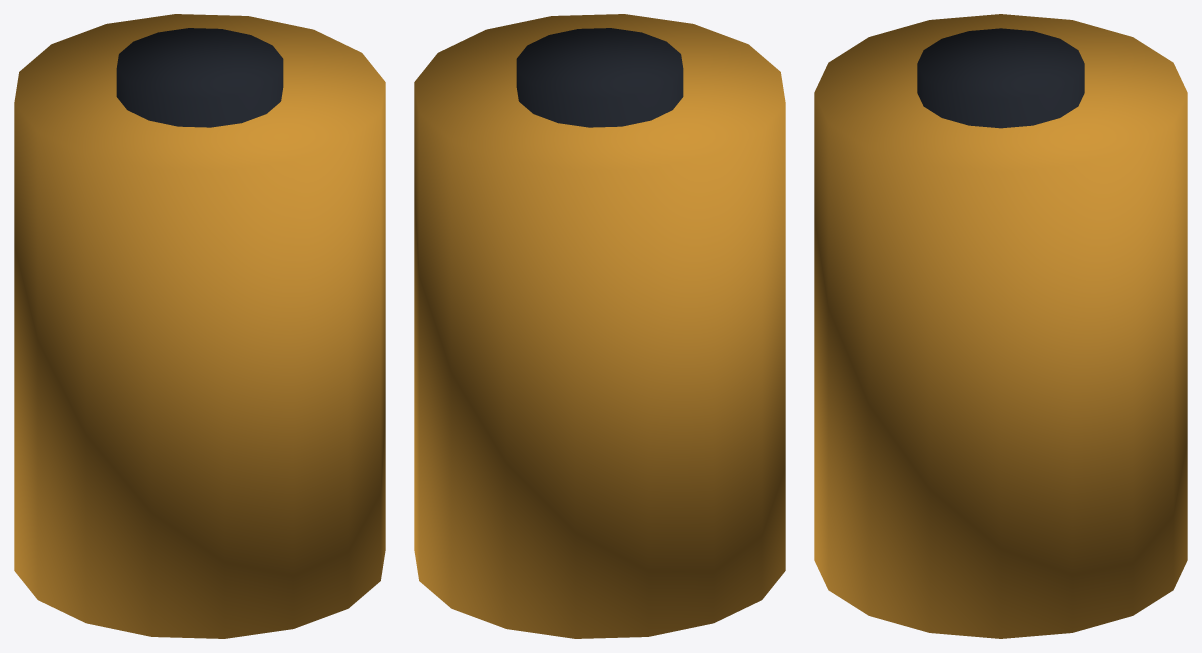
File: 110_L104_SignalVia_Detail.fbx
3 views of the same model, side by side, from view 1: azimuth 30°, elevation 25°; view 2: azimuth 150°, elevation 25°; view 3: azimuth 270°, elevation 25° (orthographic).
Visible parts, largest first — view 1: SignalVia_Detail_copper, SignalVia_Detail_black; view 2: SignalVia_Detail_copper, SignalVia_Detail_black; view 3: SignalVia_Detail_copper, SignalVia_Detail_black.
Part boxes in pixels (left/top/right/bottom): SignalVia_Detail_copper: left=14, top=14, right=385, bottom=638; SignalVia_Detail_black: left=116, top=28, right=283, bottom=127; SignalVia_Detail_copper: left=414, top=14, right=785, bottom=638; SignalVia_Detail_black: left=516, top=28, right=683, bottom=127; SignalVia_Detail_copper: left=814, top=14, right=1187, bottom=638; SignalVia_Detail_black: left=917, top=28, right=1084, bottom=128.
Size of the model in its own units: 0.00116 by 0.0018 by 0.00116.
